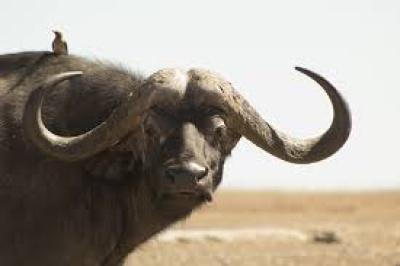buffalo: (0, 31, 349, 265)
